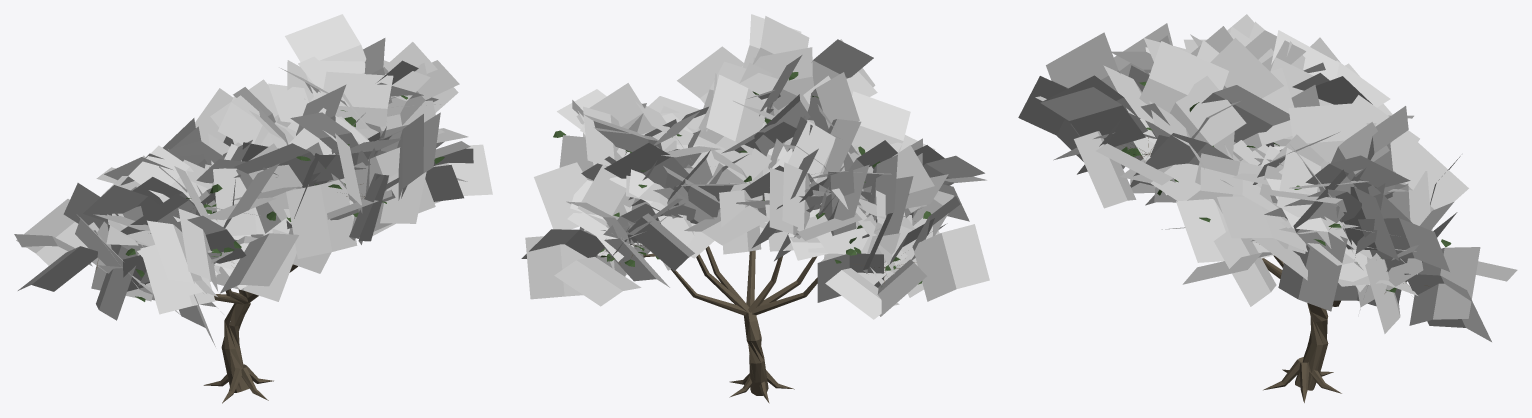
Rendered from CheneVert_Etale_LOD2.fbx.
The picture shows the model from 3 angles, left to right: view 1: azimuth 30°, elevation 25°; view 2: azimuth 150°, elevation 25°; view 3: azimuth 270°, elevation 25°; orthographic projection. The views are drawn at different scales.
Visible parts, largest first — view 1: CheneVert_Etale_LOD2; view 2: CheneVert_Etale_LOD2; view 3: CheneVert_Etale_LOD2.
Part boxes in pixels (<box>): CheneVert_Etale_LOD2: <box>14,14,492,403</box>; CheneVert_Etale_LOD2: <box>521,14,989,403</box>; CheneVert_Etale_LOD2: <box>1018,14,1517,402</box>.
Bounding box in the file's own units: 870 × 592 × 741.
